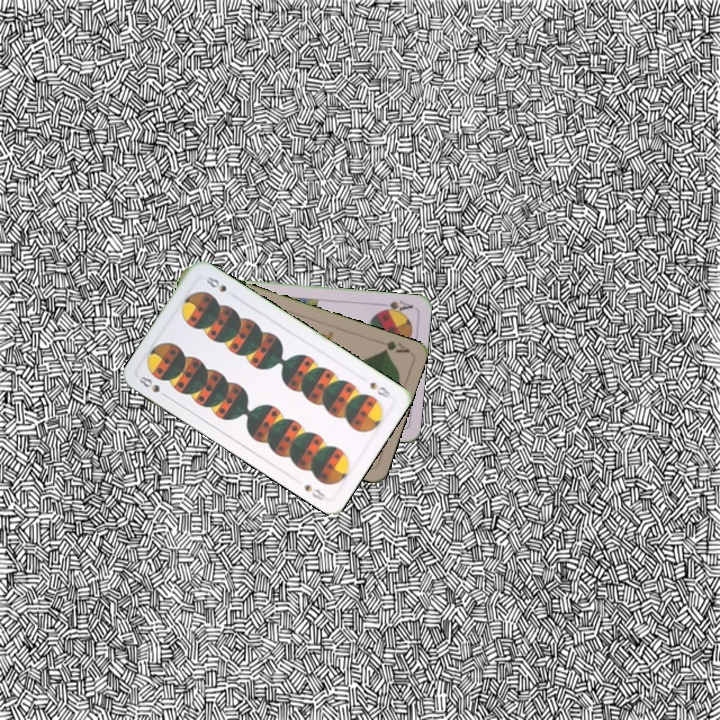GA: (378, 336, 412, 356)
S8: (133, 372, 171, 401), (366, 378, 393, 400)
SA: (375, 297, 416, 316)
